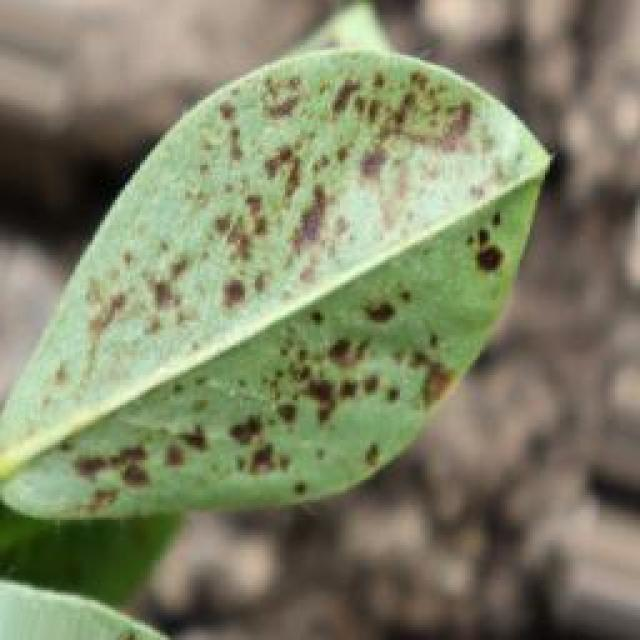Whitefly: (0, 51, 543, 558)
